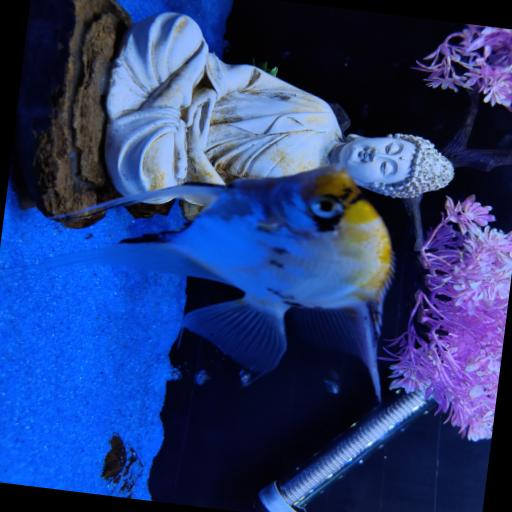Fish: (34, 166, 392, 398)
